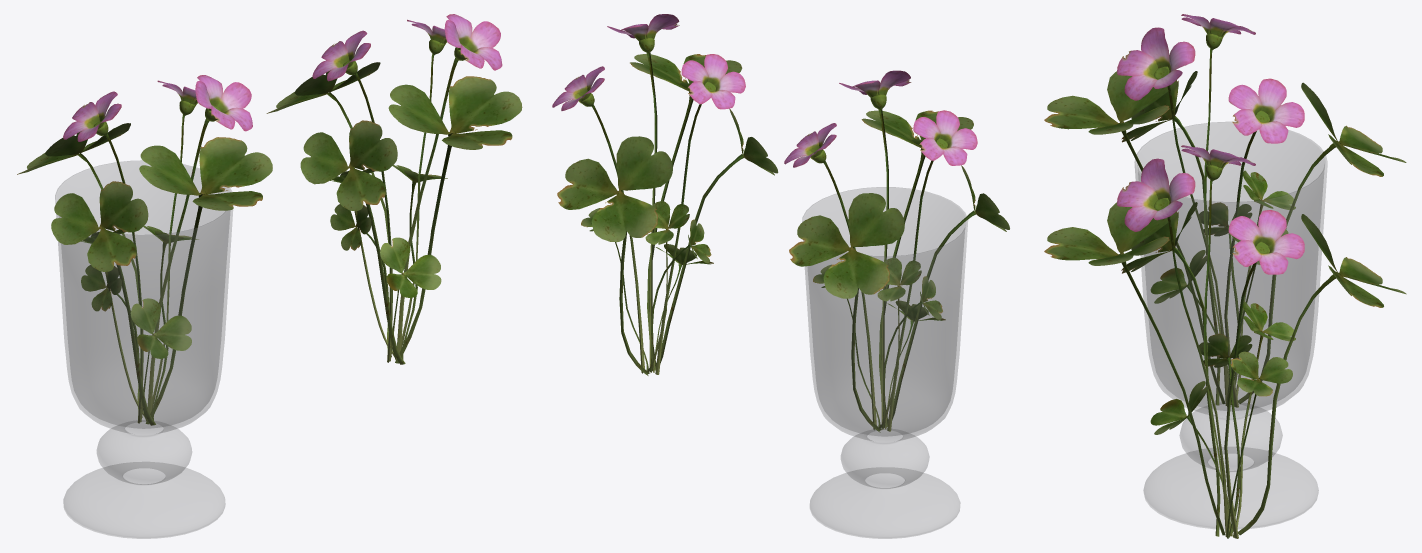
Rendered from vase.glb.
3 views of the same model, side by side, from view 1: azimuth 30°, elevation 25°; view 2: azimuth 150°, elevation 25°; view 3: azimuth 270°, elevation 25° (orthographic). The views are drawn at different scales.
Visible parts, largest first — view 1: GlassAlpha, Flowers1, Flowers2; view 2: GlassAlpha, Flowers2, Flowers1; view 3: GlassAlpha, Flowers2, Flowers1.
Boxes of the visible parts, x1,y1,x2,y2 form: GlassAlpha: [55, 160, 233, 538]; Flowers1: [17, 75, 272, 425]; Flowers2: [266, 14, 522, 364]; GlassAlpha: [802, 187, 967, 538]; Flowers2: [552, 14, 778, 375]; Flowers1: [784, 70, 1009, 432]; GlassAlpha: [1134, 122, 1327, 529]; Flowers2: [1044, 145, 1406, 538]; Flowers1: [1044, 14, 1406, 407].
Size of the model in its own units: 0.2173 by 0.2032 by 0.1425.
2 materials, 1 textured.
